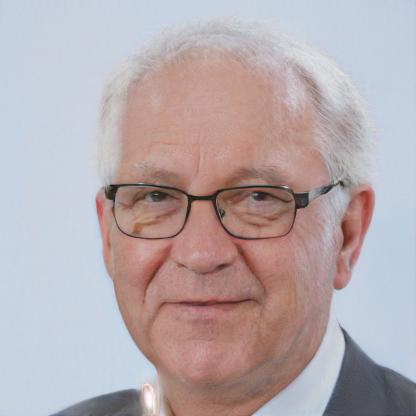glasses: (103, 177, 321, 241)
